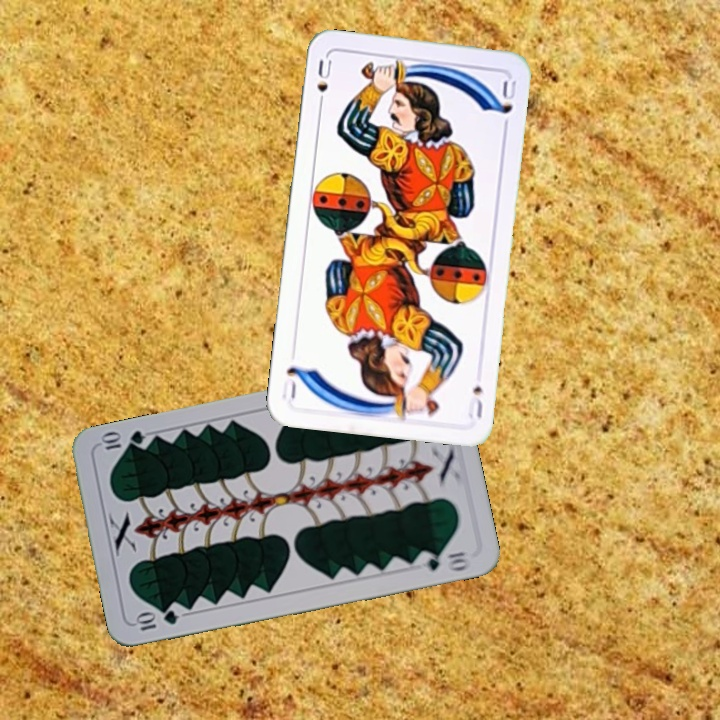G10: (132, 606, 181, 633)
SU: (312, 56, 334, 112), (464, 382, 486, 422)
